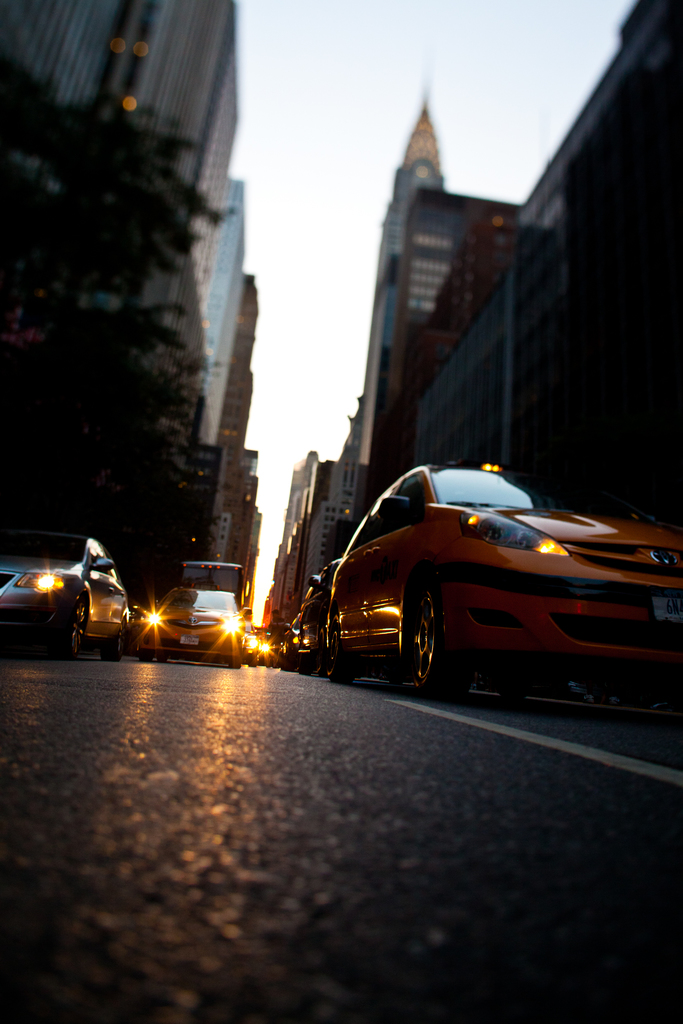Car: (280, 465, 666, 714), (0, 534, 126, 651), (131, 581, 250, 666)
